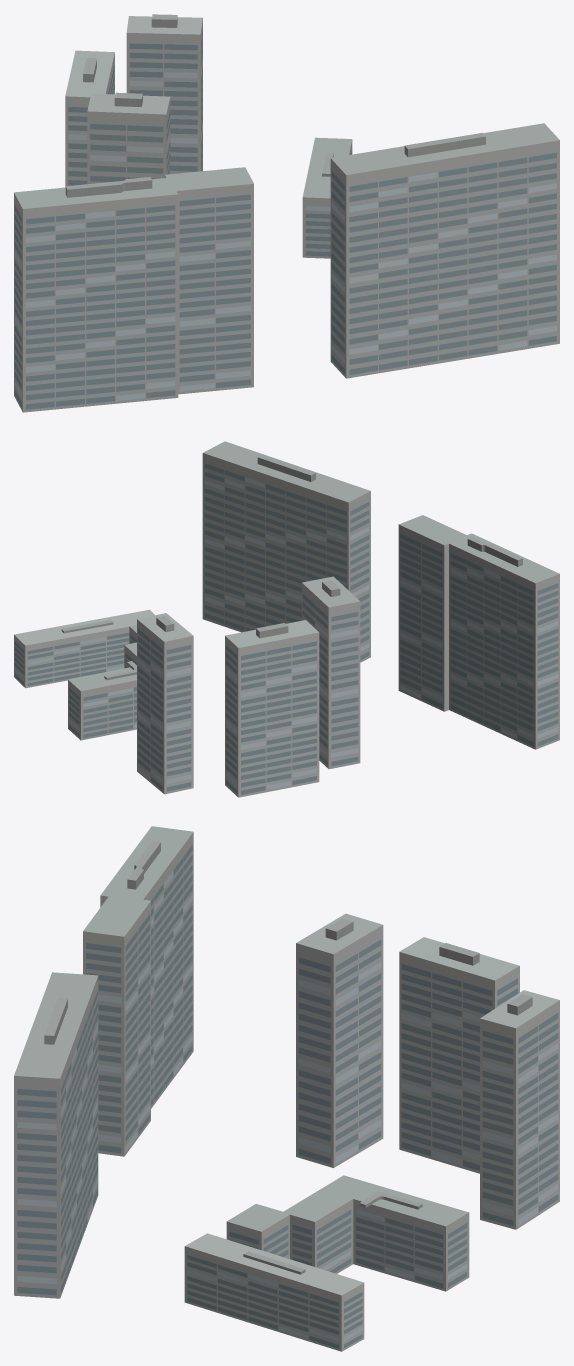
File: apt-a14085501.glb
3 renders of one model, top to bottom at view 1: azimuth 30°, elevation 25°; view 2: azimuth 150°, elevation 25°; view 3: azimuth 270°, elevation 25°, orthographic. The views are drawn at different scales.
Parts seen in each view (by area): view 1: apt-a14085501; view 2: apt-a14085501; view 3: apt-a14085501.
Boxes of the visible parts, x1=… form: apt-a14085501: x1=14, y1=14, x2=559, y2=412; apt-a14085501: x1=14, y1=441, x2=559, y2=797; apt-a14085501: x1=14, y1=826, x2=559, y2=1351.
Bounding box in the file's own units: 178 × 62 × 134.
